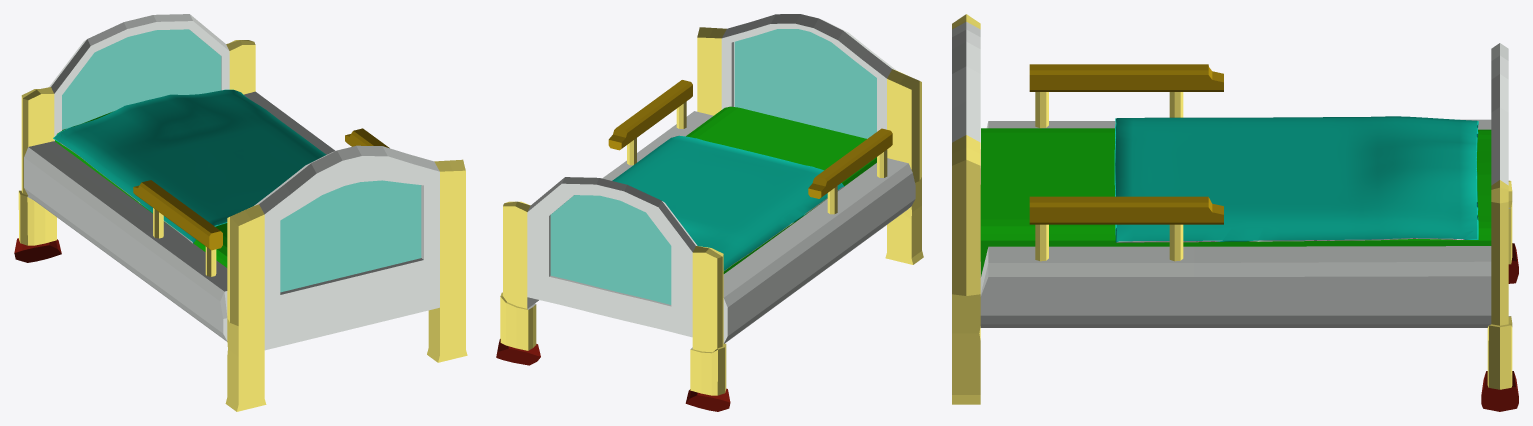
The model's file is Bed 2.fbx.
3 renders of one model, left to right at view 1: azimuth 30°, elevation 25°; view 2: azimuth 150°, elevation 25°; view 3: azimuth 270°, elevation 25°, orthographic. The views are drawn at different scales.
Parts seen in each view (by area): view 1: Plane; view 2: Plane; view 3: Plane.
Boxes of the visible parts, x1,y1,x2,y2 form: Plane: (14, 14, 467, 411); Plane: (496, 14, 923, 411); Plane: (952, 14, 1518, 411).
Bounding box in the file's own units: 2.35 × 1.37 × 1.51.
